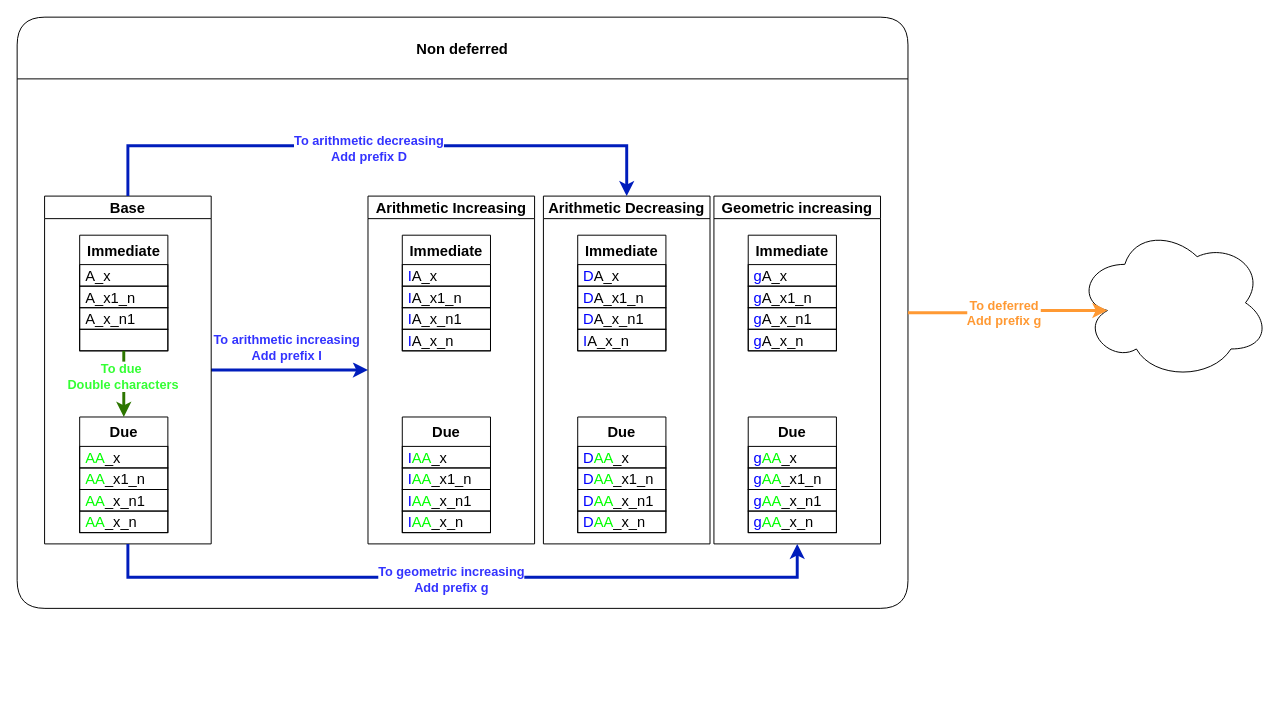
Image size: 1287x724. Some labels were removed from this diagram. Each missing label, with the centre of its shape:
A_x_n: the point at 123,339
t_ A_x t_ AA_x_n1 t_ IA_x_n ...: the point at 1173,302
